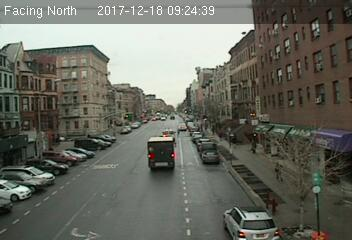car: (224, 206, 280, 240), (201, 151, 219, 163)
ups: (146, 136, 177, 172)
